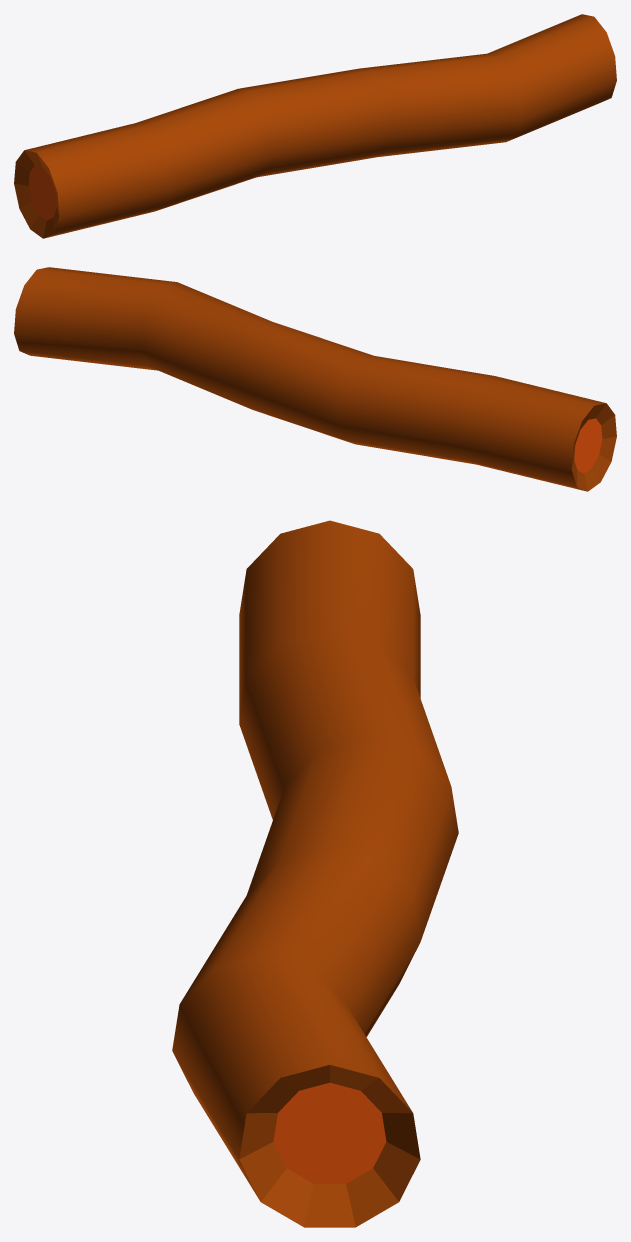
Rendered from SDG_ObstacleWood.fbx.
3 renders of one model, top to bottom at view 1: azimuth 30°, elevation 25°; view 2: azimuth 150°, elevation 25°; view 3: azimuth 270°, elevation 25°, orthographic. The views are drawn at different scales.
Parts seen in each view (by area): view 1: Cylinder002; view 2: Cylinder002; view 3: Cylinder002.
Part boxes in pixels (x1=…): Cylinder002: x1=14, y1=14, x2=616, y2=238; Cylinder002: x1=14, y1=267, x2=616, y2=491; Cylinder002: x1=172, y1=520, x2=458, y2=1227.
Size of the model in its own units: 14.19 by 1.98 by 3.16.
